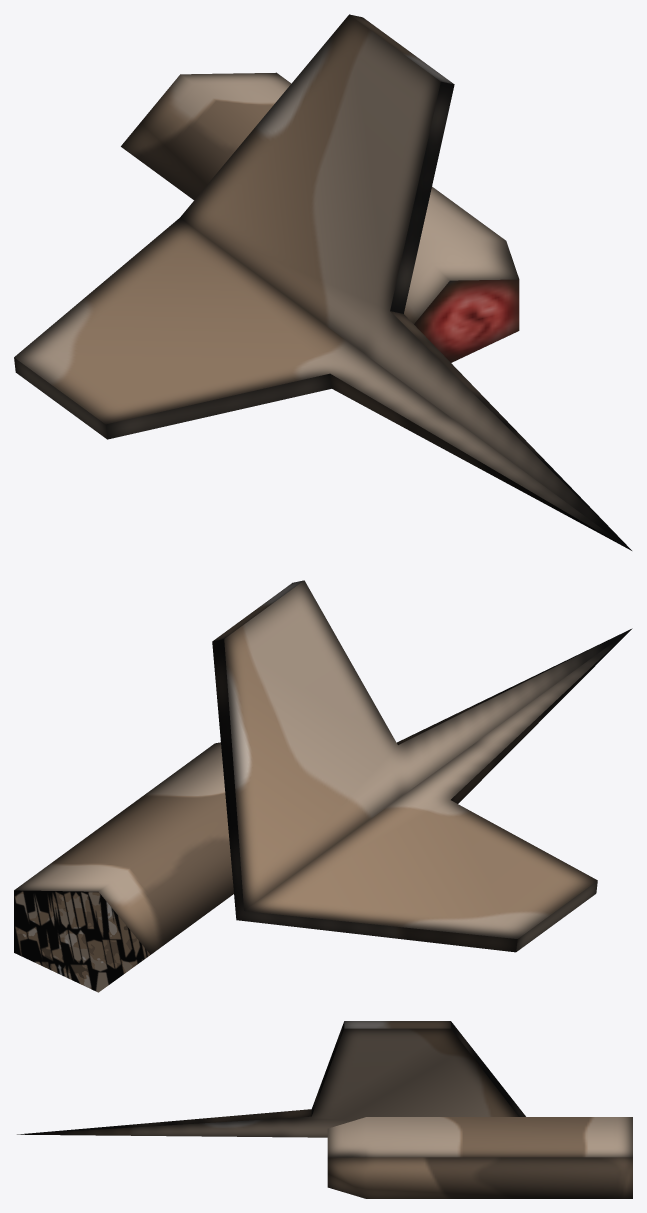
File: F35egerDestructionPart5.fbx
3 renders of one model, top to bottom at view 1: azimuth 30°, elevation 25°; view 2: azimuth 150°, elevation 25°; view 3: azimuth 270°, elevation 25°, orthographic. The views are drawn at different scales.
Visible parts, largest first — view 1: Flieger__Rumpf_; view 2: Flieger__Rumpf_; view 3: Flieger__Rumpf_.
Boxes of the visible parts, box(x1,y1,x2,y2) form: Flieger__Rumpf_: box(14, 14, 631, 550); Flieger__Rumpf_: box(14, 580, 632, 992); Flieger__Rumpf_: box(17, 1021, 632, 1198).
Bounding box in the file's own units: 3.91 × 2.56 × 8.6.
Materials: 1 (1 with a texture image).
